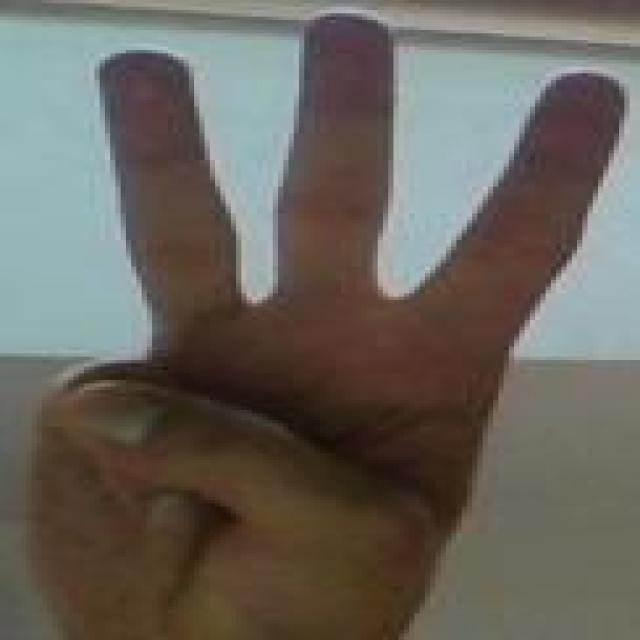W: (10, 0, 635, 637)
